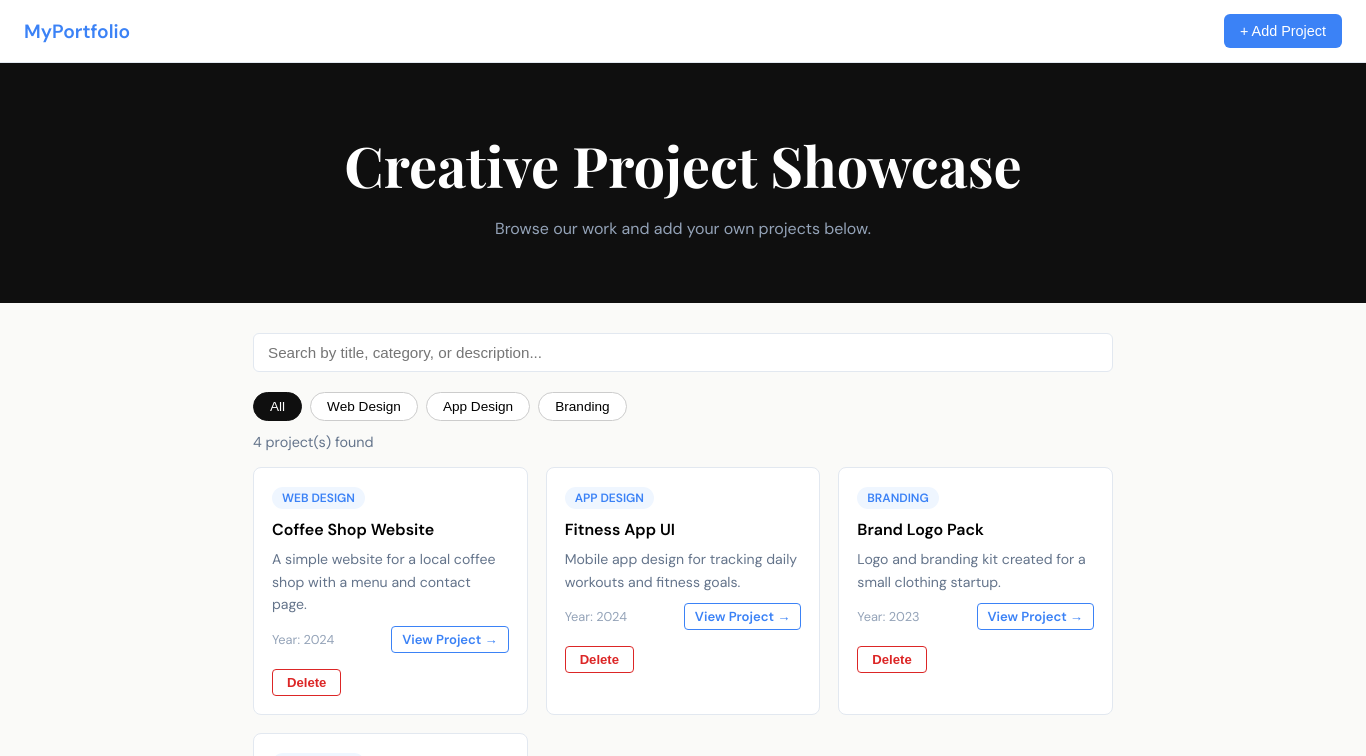
search filters projects by title
The width and height of the screenshot is (1366, 756).
Step 1. Type "coffee" into the field with placeholder "Search by title, category, or description..." → point(683, 352), box [253,333,1113,372]
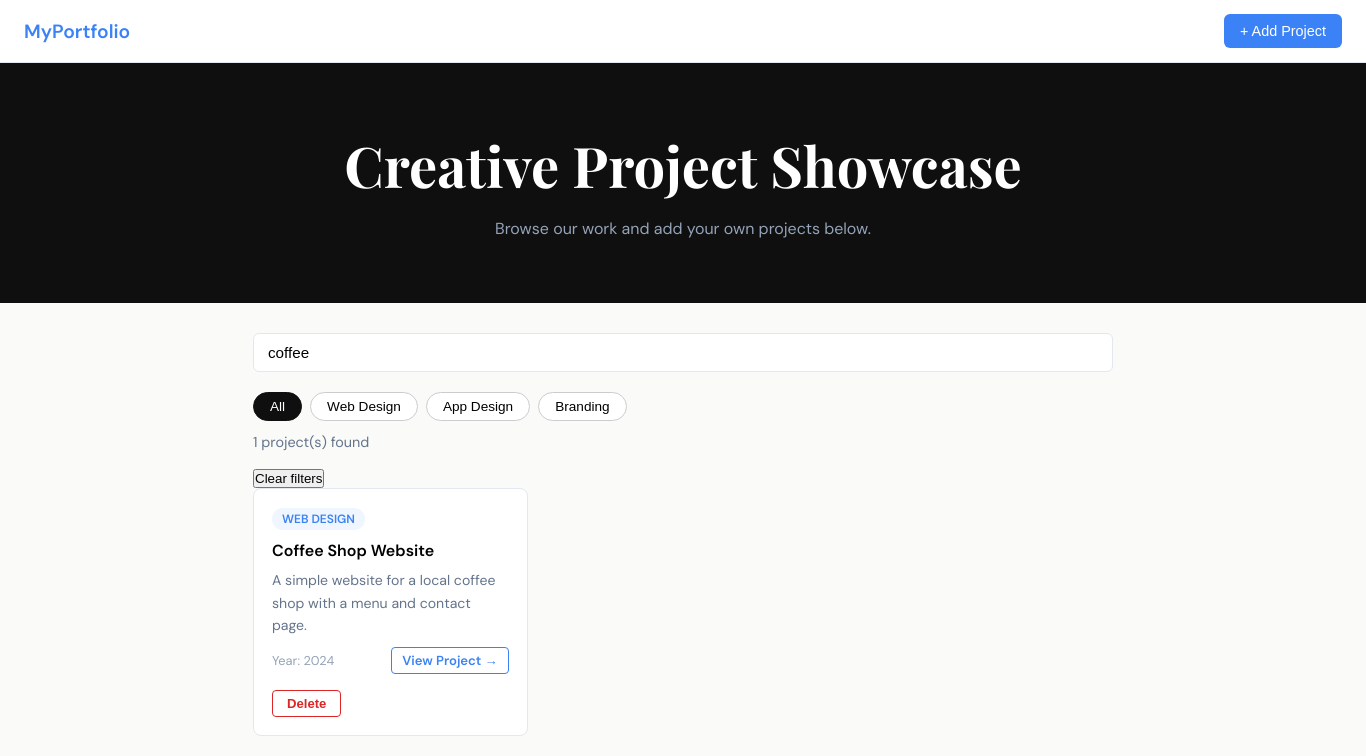
Expected: the heading "Coffee Shop Website" is shown, [272,540,434,561]
Expected: the heading "Fitness App UI" is gone
